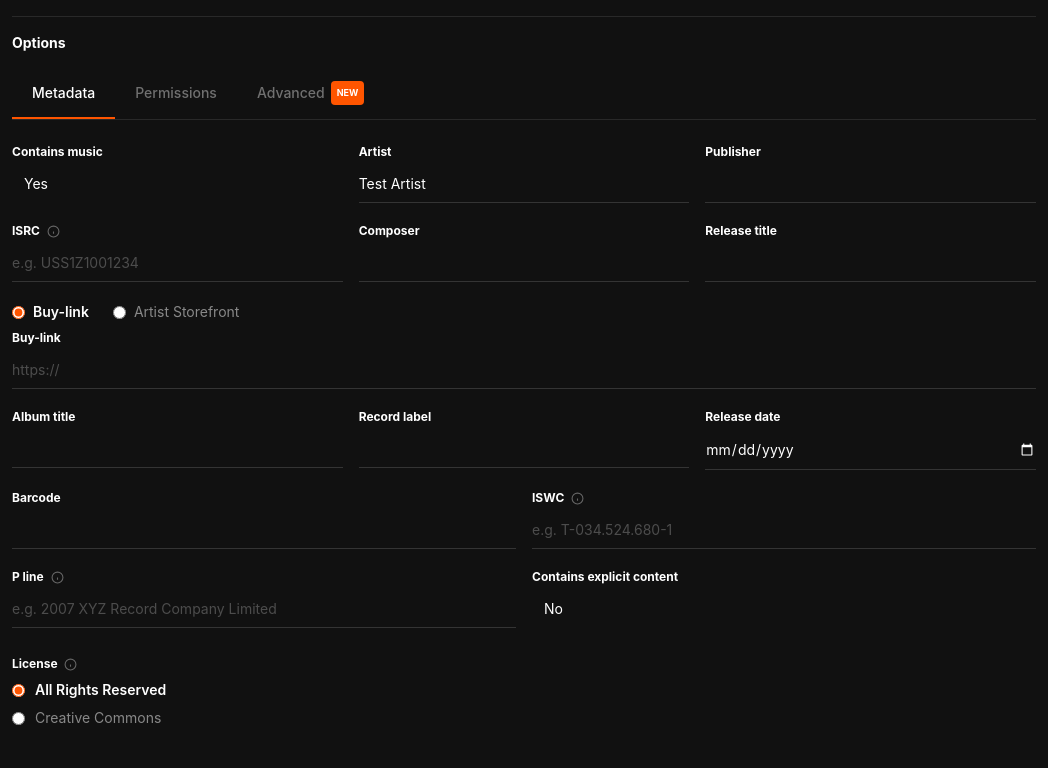
Test: UploadOptionsPanel › switches to Permissions tab
This screenshot has width=1048, height=768.
Click the button with test id "options-tab-permissions" at coordinates (176, 94), box [115, 69, 237, 119]
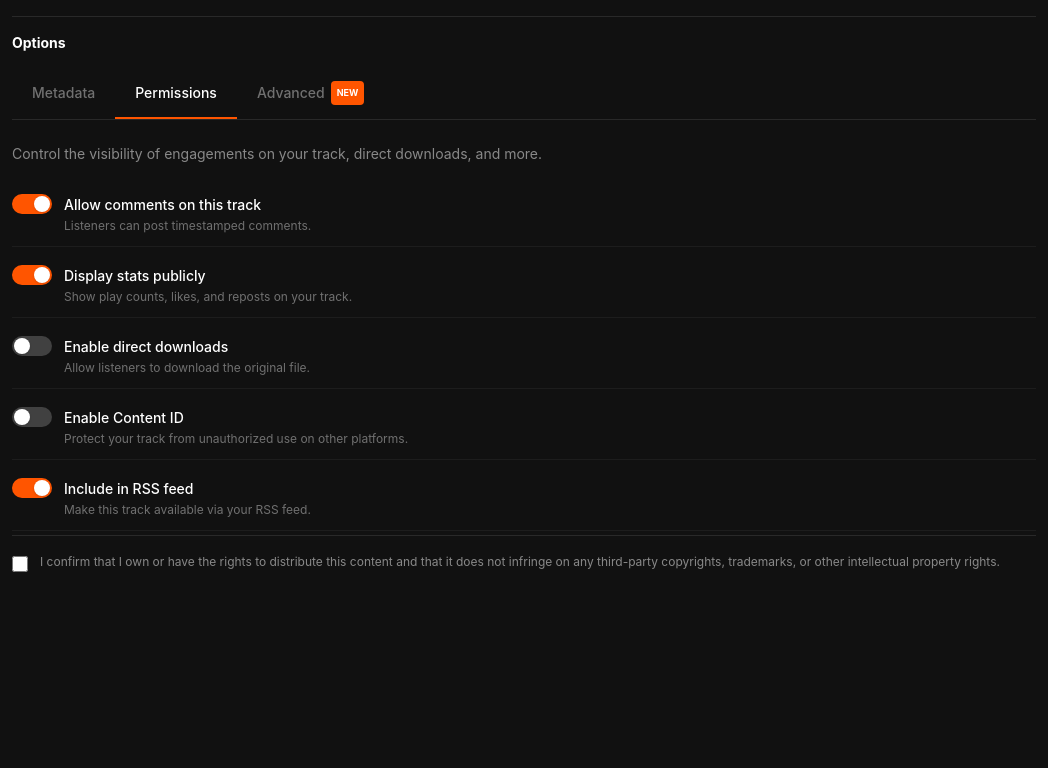
Result: the element with test id "options-permissions-tab" is shown
Result: the element with test id "options-metadata-tab" is gone
